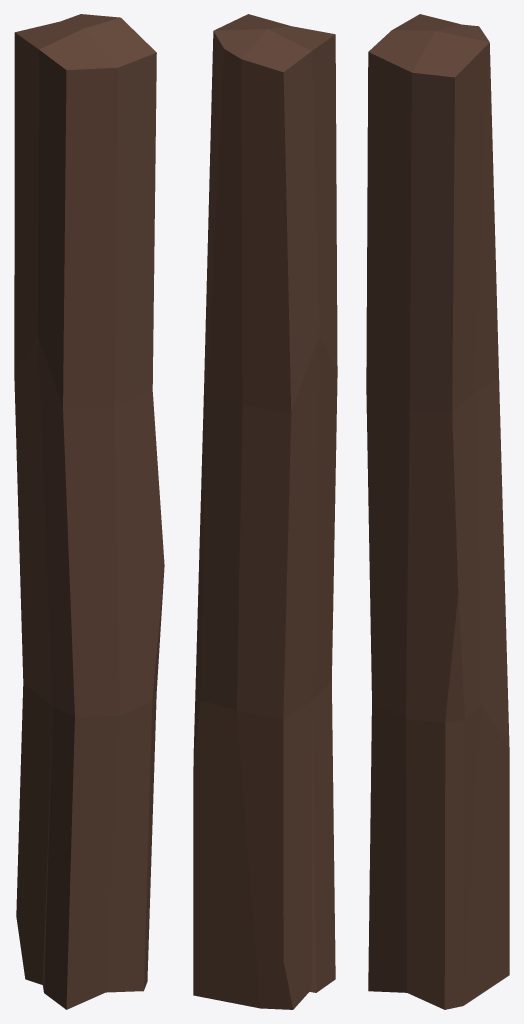
File: FenceSticksEnd_01.glb
The picture shows the model from 3 angles, left to right: view 1: azimuth 30°, elevation 25°; view 2: azimuth 150°, elevation 25°; view 3: azimuth 330°, elevation 25°; orthographic projection.
Visible parts, largest first — view 1: FenceSticksEnd_01; view 2: FenceSticksEnd_01; view 3: FenceSticksEnd_01.
Boxes of the visible parts, box(x1,y1,x2,y2) form: FenceSticksEnd_01: box(14, 14, 164, 1009); FenceSticksEnd_01: box(193, 14, 337, 1009); FenceSticksEnd_01: box(366, 14, 509, 1009).
Size of what is drawn, in the model's own units: 0.1089 by 0.9884 by 0.1148.
1 material, 1 textured.
